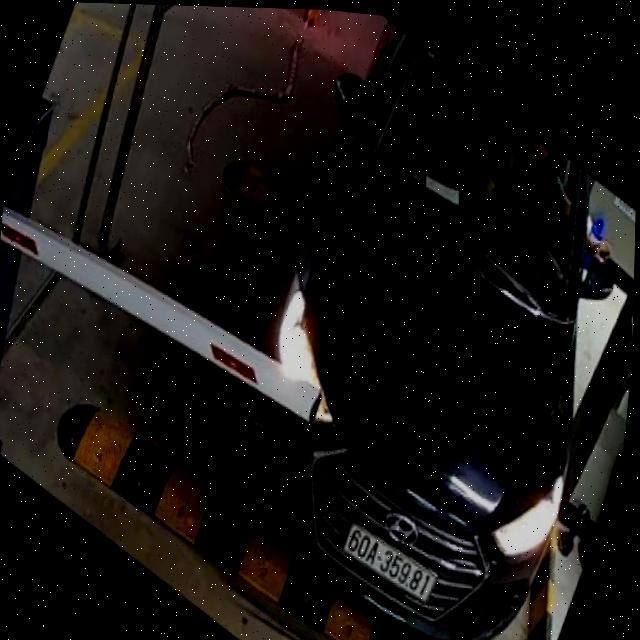car: (223, 7, 640, 640)
plate: (337, 521, 443, 608)
